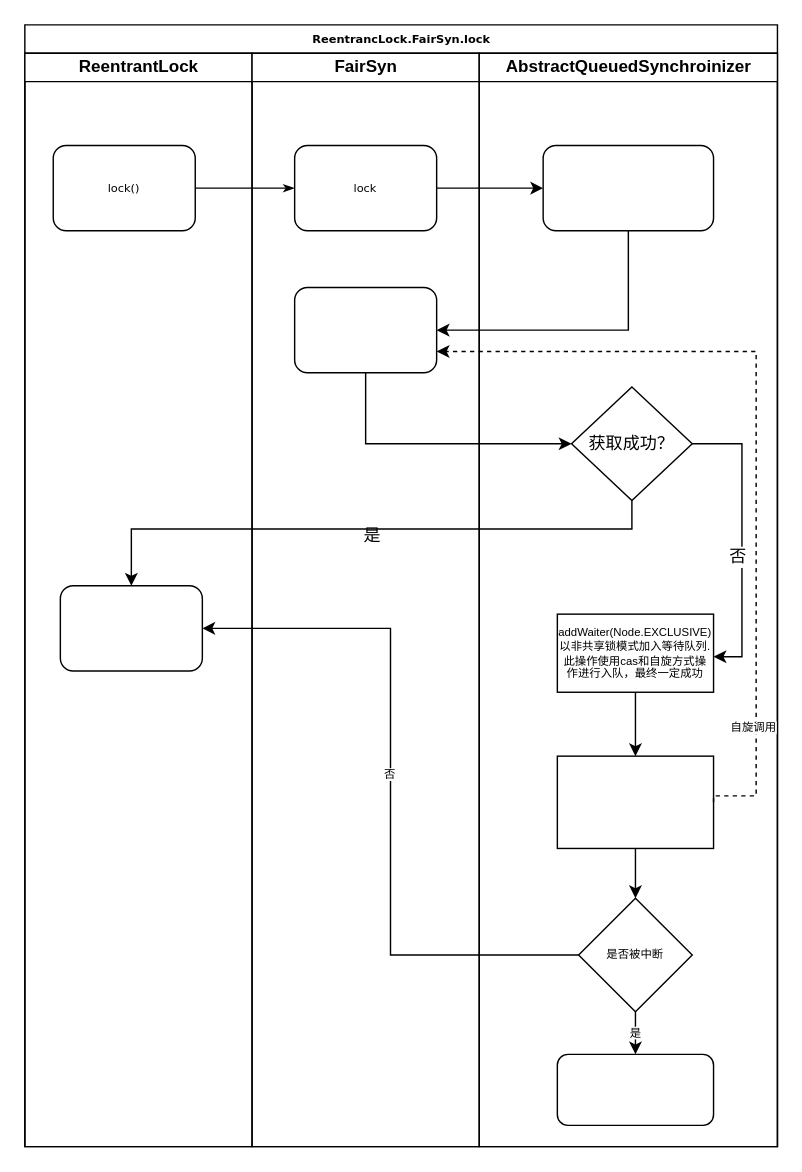
Some shapes in this 802 by 1172 pixel diagram are drawn without their labels. The box of each missing label's shape, as (x1, y1, x2, y2) in pixels:
acquire(1): (542, 144, 714, 231)
acquireQueued(node,1) 为已入队的线程在排他非中断 模式下获取锁（自旋获取）， 会判断是否为第一个等待节点: (556, 755, 714, 848)
tryAcquire(1) 公平锁会判断是不是等待队列里面第一个真正等待的线程，是尝试获取: (293, 286, 437, 373)
执行lock后逻辑: (59, 584, 202, 671)
自行中断: (556, 1053, 714, 1125)
